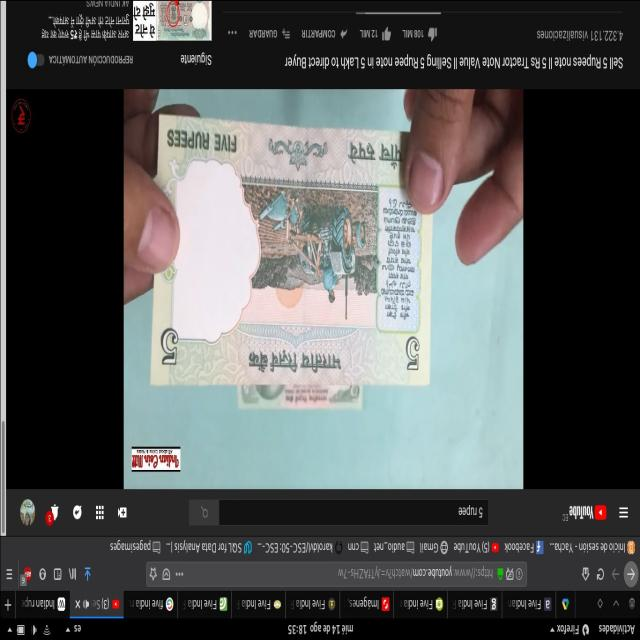5IndianRupees: (150, 132, 428, 384)
